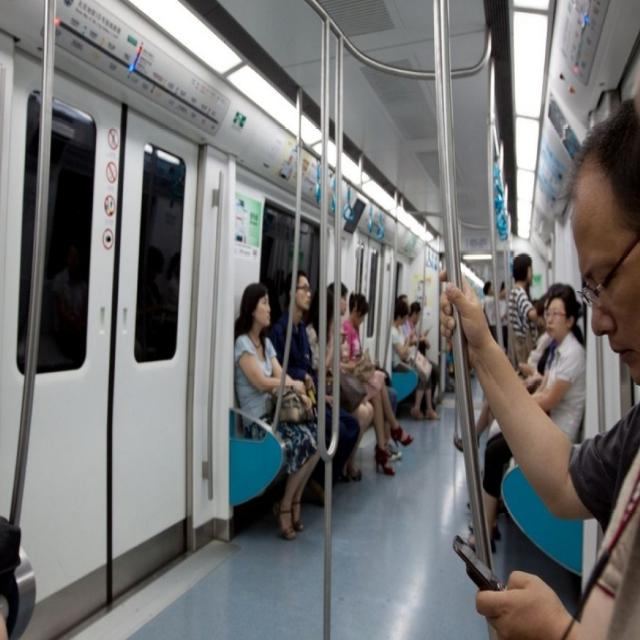body: (471, 94, 640, 640), (466, 282, 587, 557), (230, 279, 324, 543), (265, 266, 362, 510), (293, 279, 361, 486), (341, 289, 415, 479), (436, 278, 499, 453), (328, 280, 376, 484), (391, 299, 441, 421), (397, 293, 438, 422), (511, 280, 556, 392), (506, 252, 547, 373), (408, 301, 440, 421), (376, 362, 402, 421), (480, 279, 498, 345), (498, 279, 508, 357)
